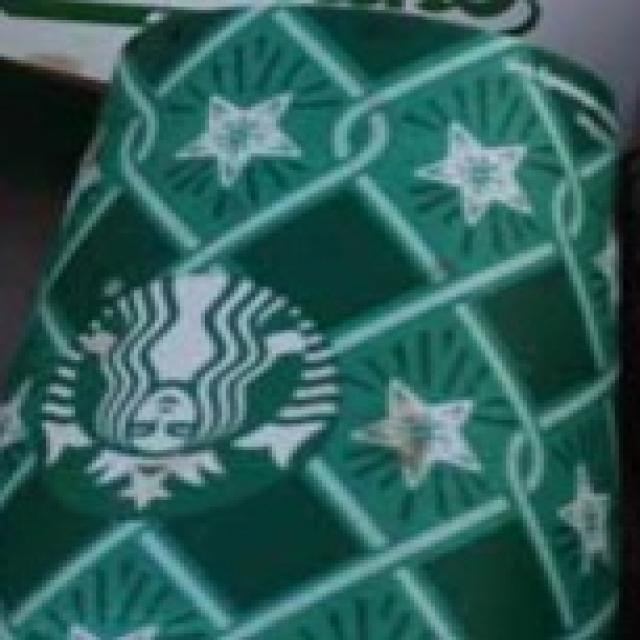plastic cup: (27, 0, 640, 625)
